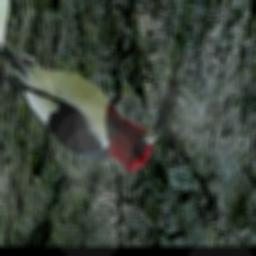Woodpecker: (0, 25, 170, 183)
